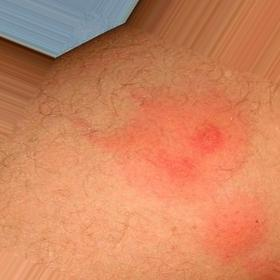Fleas: (191, 123, 219, 153)
